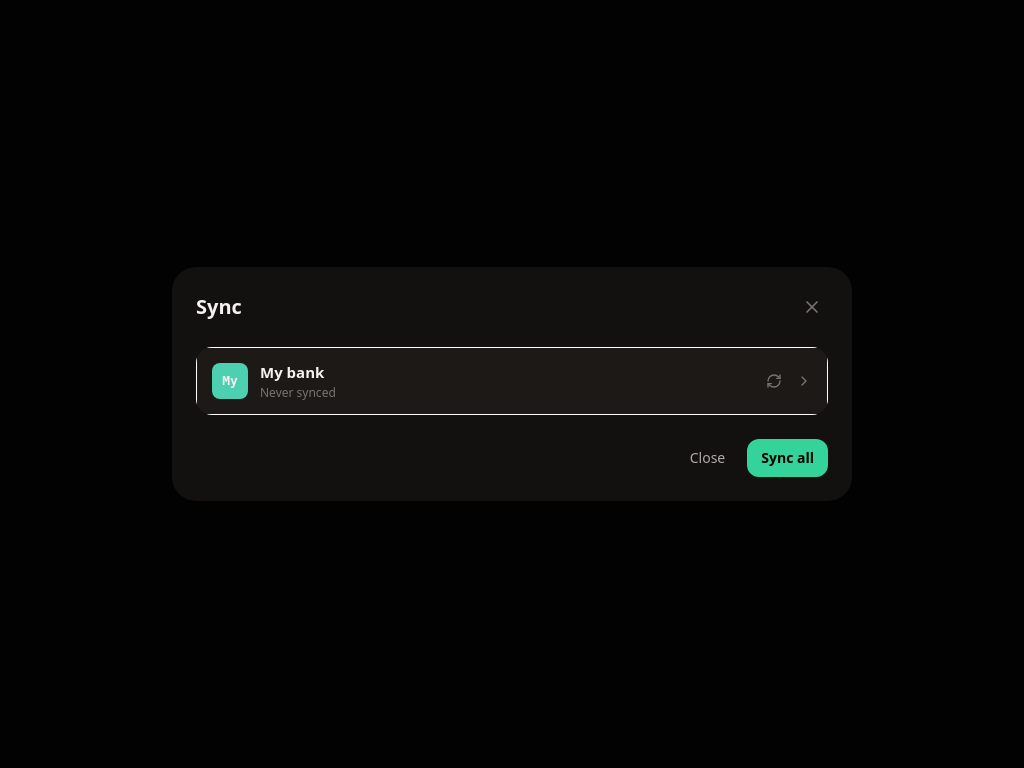
Test case: SyncModal › lists the connections without naming their provider
Check: the text "Checking" is not shown
Click the text "My bank". click: click(292, 372)
box: 260,362 -> 324,382
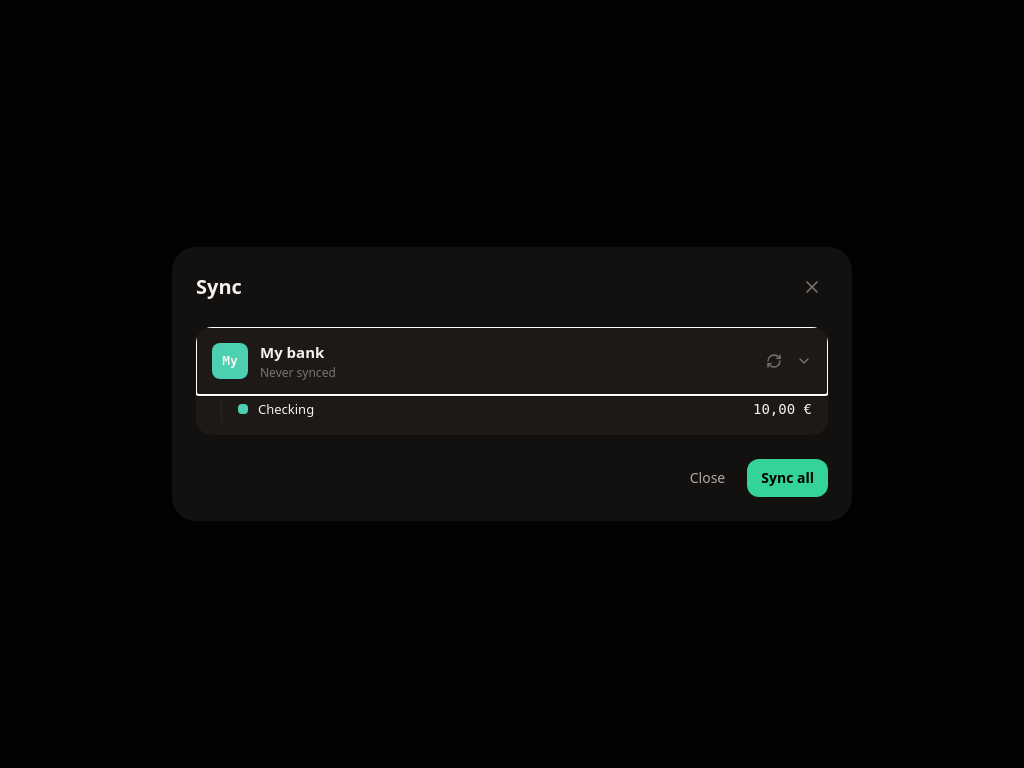
Check: the text "Checking" is shown, box 258,400 -> 314,419
